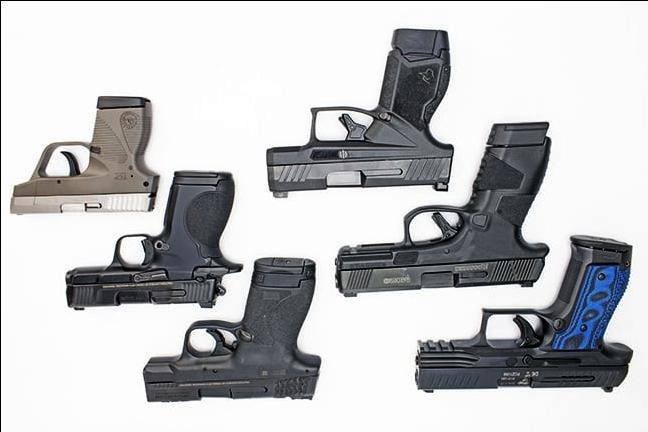gun: (328, 117, 554, 296), (410, 234, 636, 400), (259, 23, 457, 194), (140, 255, 318, 410), (61, 166, 242, 312), (8, 96, 161, 214)
